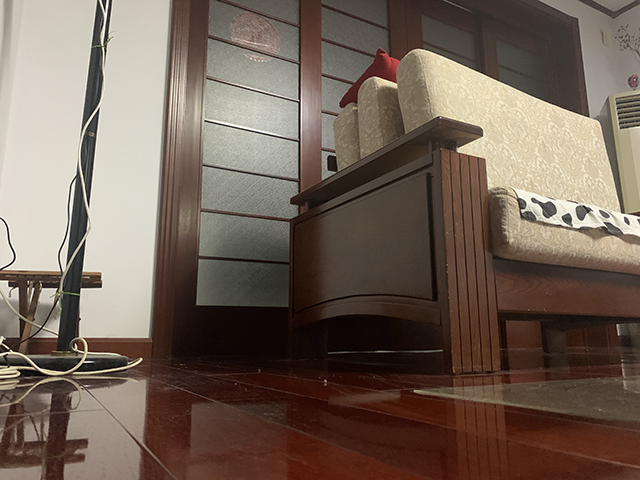sofa: (286, 46, 639, 378)
stool: (1, 267, 104, 353)
wire: (47, 1, 119, 310), (1, 333, 143, 383)
